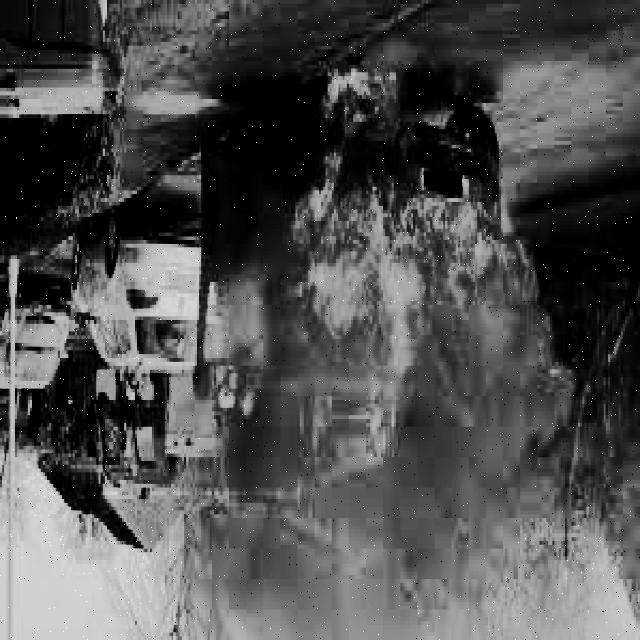api: (280, 142, 558, 382)
